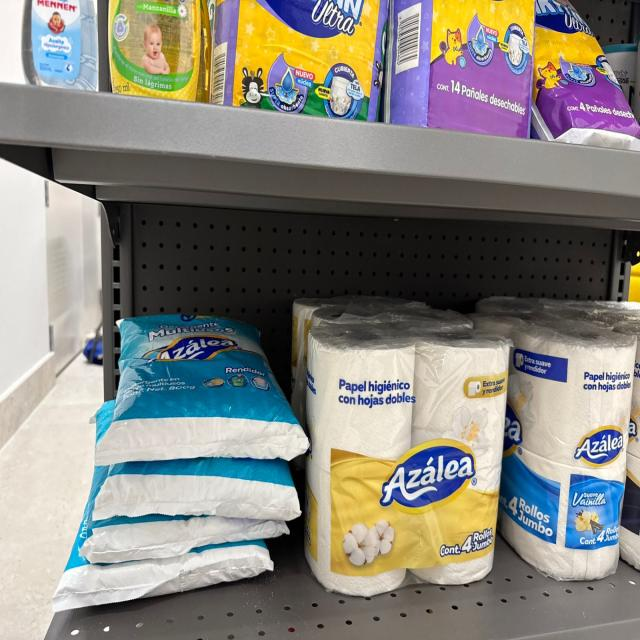DETERGENTE AZALEA MULTIUSOS 800G: (95, 300, 311, 472), (49, 542, 275, 605), (94, 463, 304, 519), (82, 514, 296, 562)
PAPEL HIGIENICO AZALEA 4 ROLLOS 350 HOJAS: (478, 287, 628, 585)
PAPEL HIGIENICO AZALEA 4S CON AROMA: (313, 330, 503, 597), (304, 303, 470, 330), (286, 278, 427, 308)
